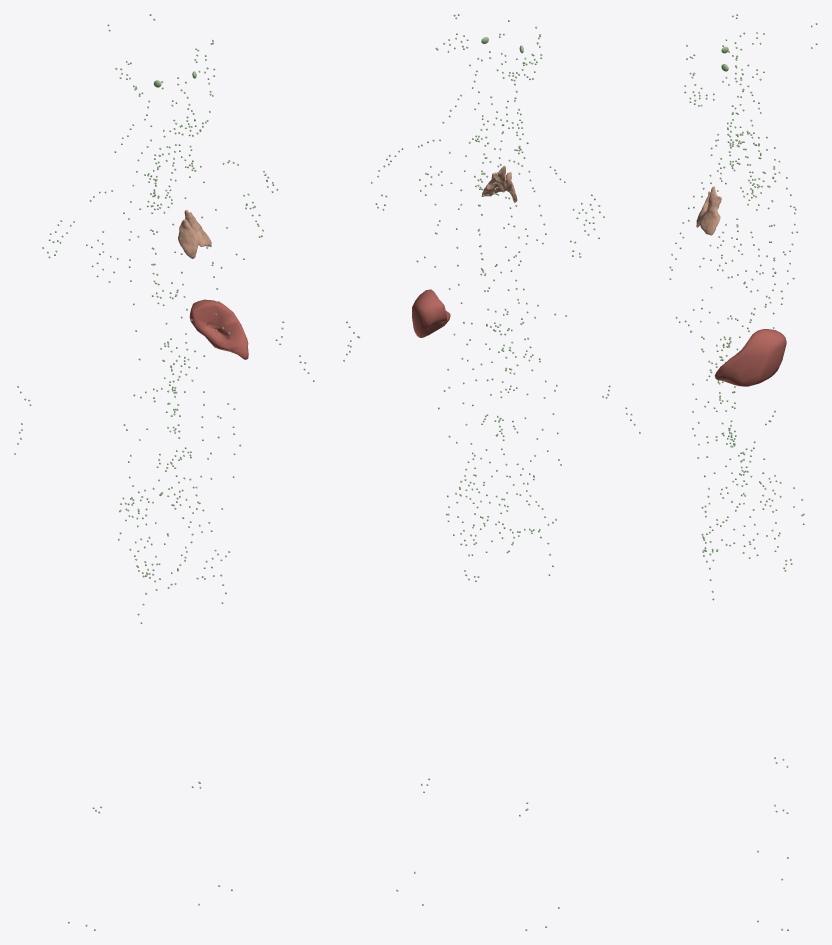
Rendered from adult_male.lymphatic.LOD1.glb.
The picture shows the model from 3 angles, left to right: view 1: azimuth 30°, elevation 25°; view 2: azimuth 150°, elevation 25°; view 3: azimuth 270°, elevation 25°; orthographic projection.
Parts seen in each view (by area): view 1: ADULT.MALE.LYMPHATIC.SPLEEN; view 2: ADULT.MALE.LYMPHATIC.SPLEEN; view 3: ADULT.MALE.LYMPHATIC.SPLEEN, ADULT.MALE.LYMPHATIC.LEFT_LOBE_OF_THYMUS.
Boxes of the visible parts, x1,y1,x2,y2 form: ADULT.MALE.LYMPHATIC.SPLEEN: (189,299,248,359); ADULT.MALE.LYMPHATIC.SPLEEN: (412,289,450,337); ADULT.MALE.LYMPHATIC.SPLEEN: (714,329,786,386); ADULT.MALE.LYMPHATIC.LEFT_LOBE_OF_THYMUS: (699,186,721,235).
Size of the model in its own units: 0.4525 by 1.28 by 0.1963.
